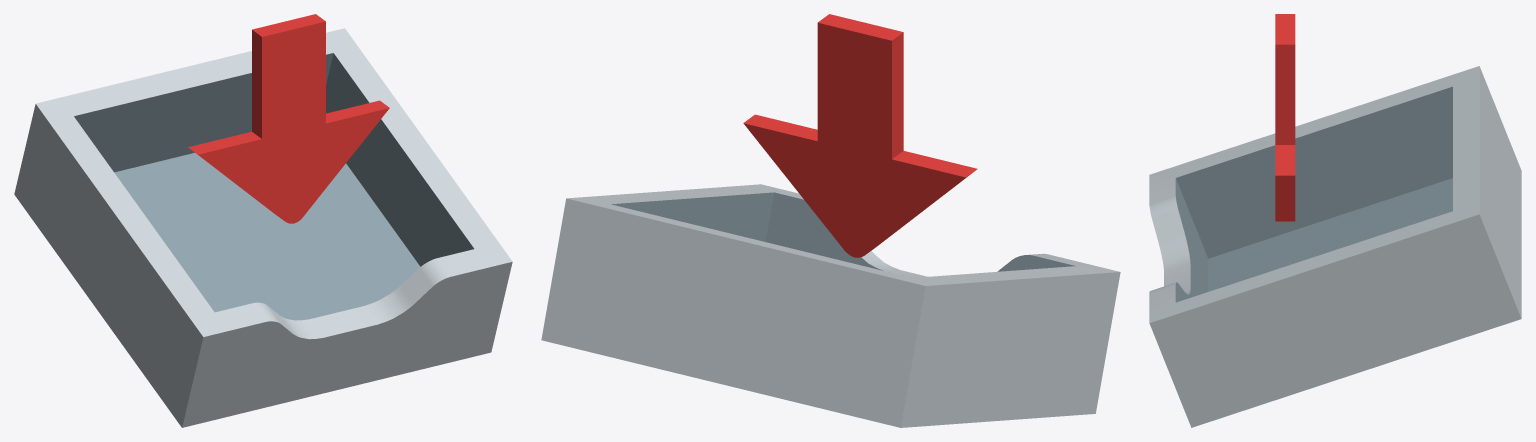
Rendered from inbox_tray.fbx.
3 renders of one model, left to right at view 1: azimuth 30°, elevation 25°; view 2: azimuth 150°, elevation 25°; view 3: azimuth 270°, elevation 25°, orthographic. The views are drawn at different scales.
Visible parts, largest first — view 1: Cube.967; view 2: Cube.967; view 3: Cube.967.
Boxes of the visible parts, x1,y1,x2,y2 form: Cube.967: (14, 14, 512, 427); Cube.967: (541, 14, 1120, 427); Cube.967: (1149, 14, 1521, 427).
Size of the model in its own units: 200 by 204 by 212.
Materials: 1 (1 with a texture image).
